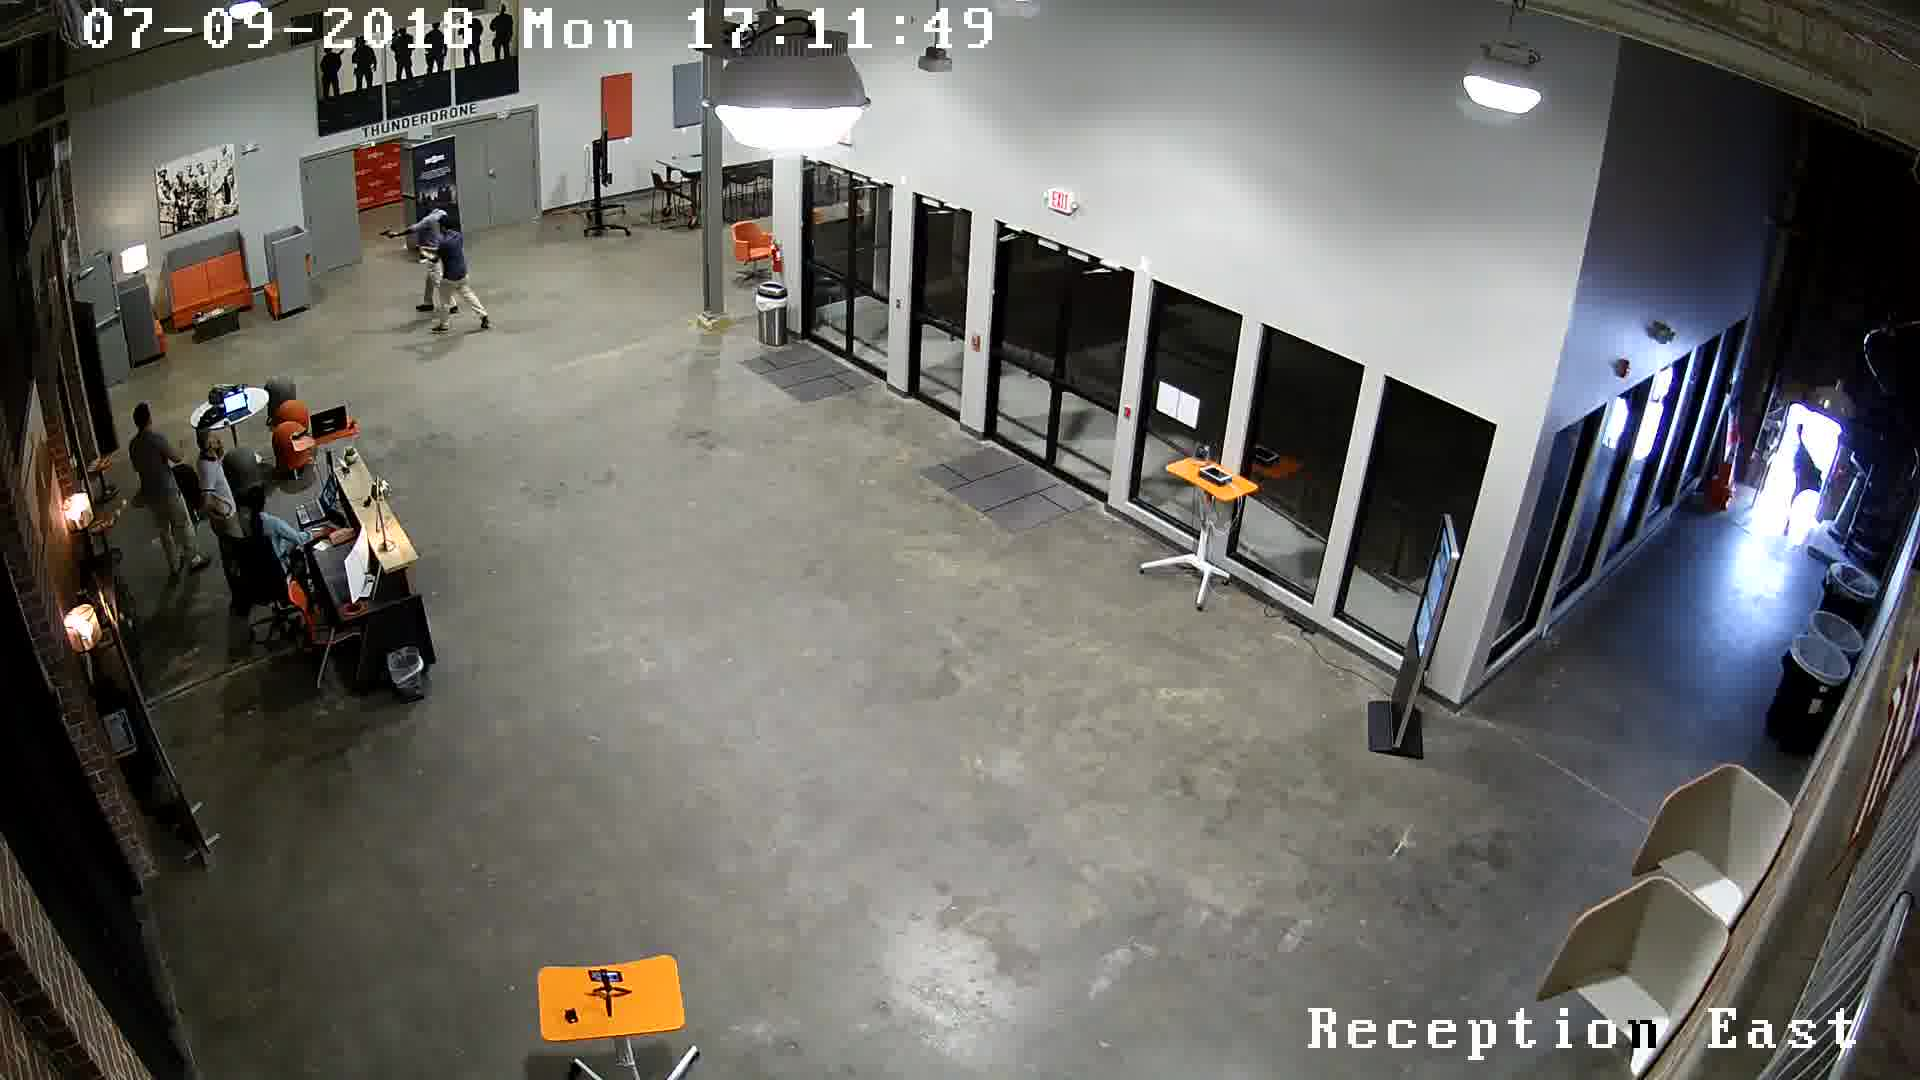pistol: (371, 223, 407, 251), (406, 237, 433, 268)
